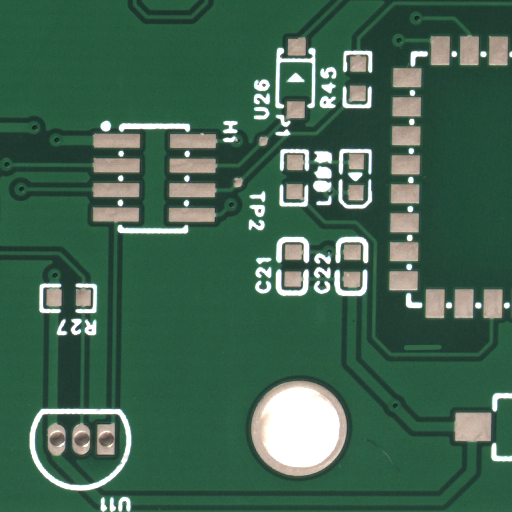Spurious_copper: (423, 346, 463, 355)
